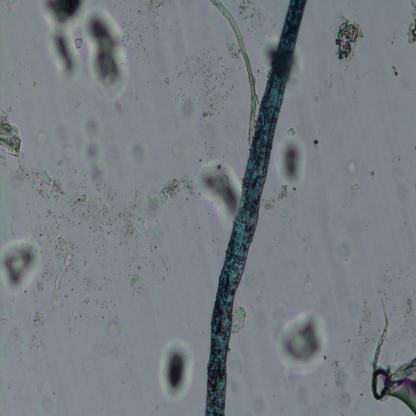Air bubble: (390, 375, 415, 416)
Background material: (60, 184, 162, 238), (24, 214, 87, 288), (84, 0, 131, 87), (175, 54, 228, 131), (41, 0, 86, 83), (276, 315, 335, 374), (192, 157, 240, 224), (324, 9, 368, 80), (143, 342, 195, 402), (0, 231, 43, 295), (14, 160, 65, 208), (279, 125, 309, 194), (80, 106, 106, 185), (0, 106, 24, 161), (51, 124, 79, 164), (161, 178, 197, 206), (141, 0, 167, 31), (0, 0, 27, 29), (331, 233, 355, 262), (128, 266, 147, 300), (290, 49, 306, 87), (24, 305, 48, 329), (265, 182, 285, 210), (404, 0, 416, 44), (231, 308, 250, 335), (130, 138, 147, 162), (77, 352, 94, 375), (32, 356, 52, 375), (30, 128, 51, 146), (301, 271, 314, 294), (28, 332, 43, 350), (105, 320, 120, 337), (344, 160, 360, 175), (5, 222, 18, 240), (51, 296, 63, 310), (401, 80, 416, 90), (80, 274, 92, 286), (98, 300, 110, 310), (160, 257, 168, 271), (350, 184, 360, 194), (313, 138, 320, 151), (45, 208, 55, 217), (279, 209, 289, 218), (176, 145, 184, 155), (82, 296, 92, 304), (392, 62, 398, 75), (342, 197, 349, 208), (324, 82, 331, 92), (369, 169, 375, 180), (313, 94, 321, 102), (72, 314, 78, 321), (32, 79, 37, 87), (83, 258, 88, 266), (131, 257, 137, 262), (160, 276, 166, 281), (102, 277, 108, 282), (355, 76, 361, 80), (125, 240, 129, 245), (64, 293, 68, 298), (154, 244, 157, 250), (70, 286, 74, 290), (23, 289, 27, 293), (114, 245, 117, 250), (138, 265, 141, 269), (144, 256, 147, 260), (79, 314, 82, 318), (148, 260, 151, 263), (102, 315, 104, 319), (95, 251, 97, 253), (101, 245, 104, 246)
Cellulose filter fibre: (215, 0, 257, 132), (365, 298, 416, 404)
Microfibre: (198, 0, 306, 416)
